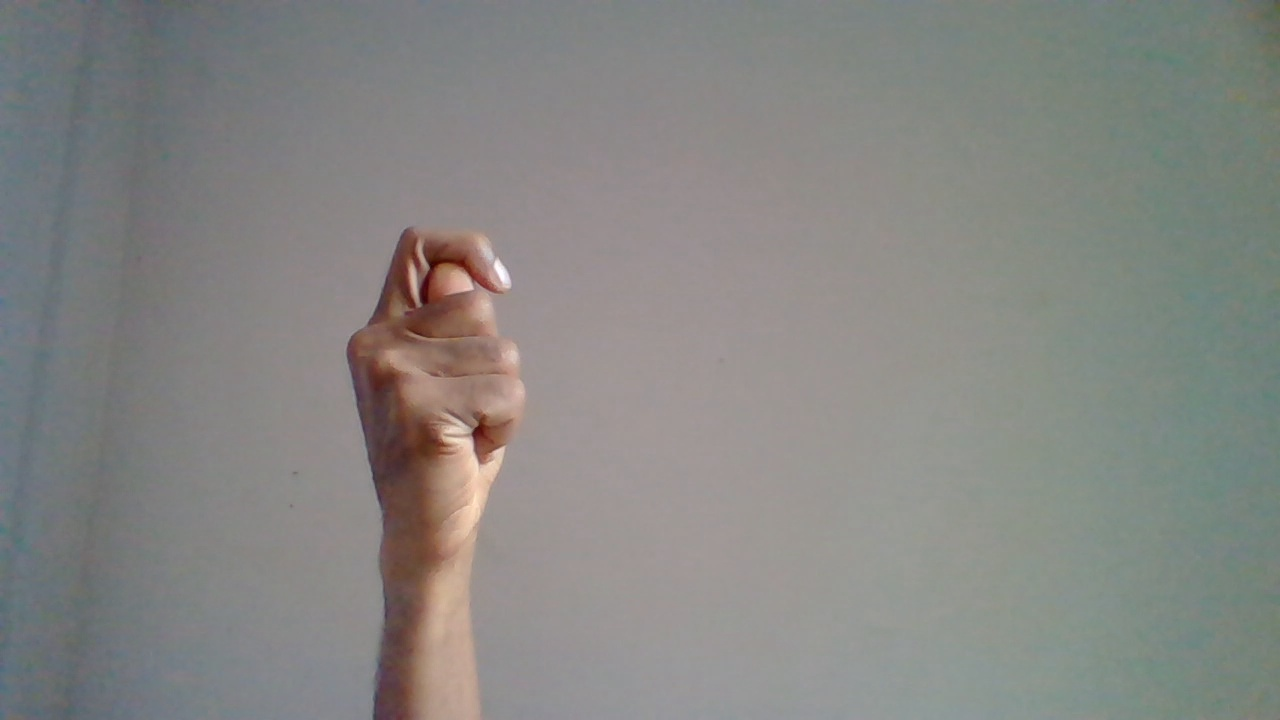che: (351, 227, 531, 692)
